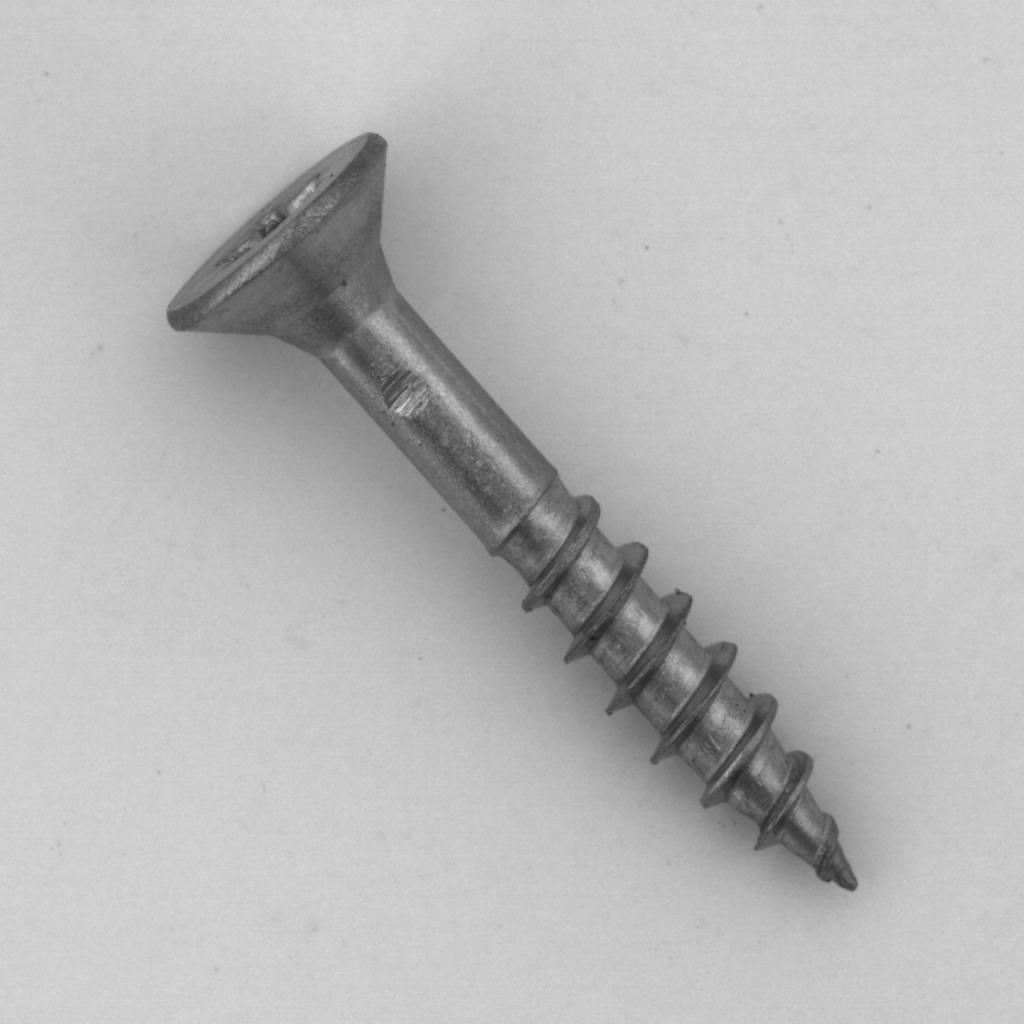scratch_neck: (323, 324, 520, 496)
